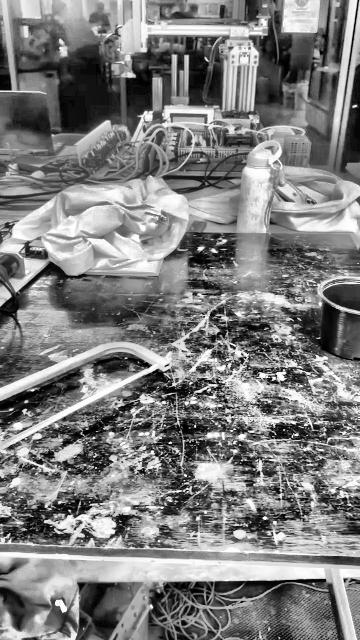pot: (319, 277, 359, 360)
